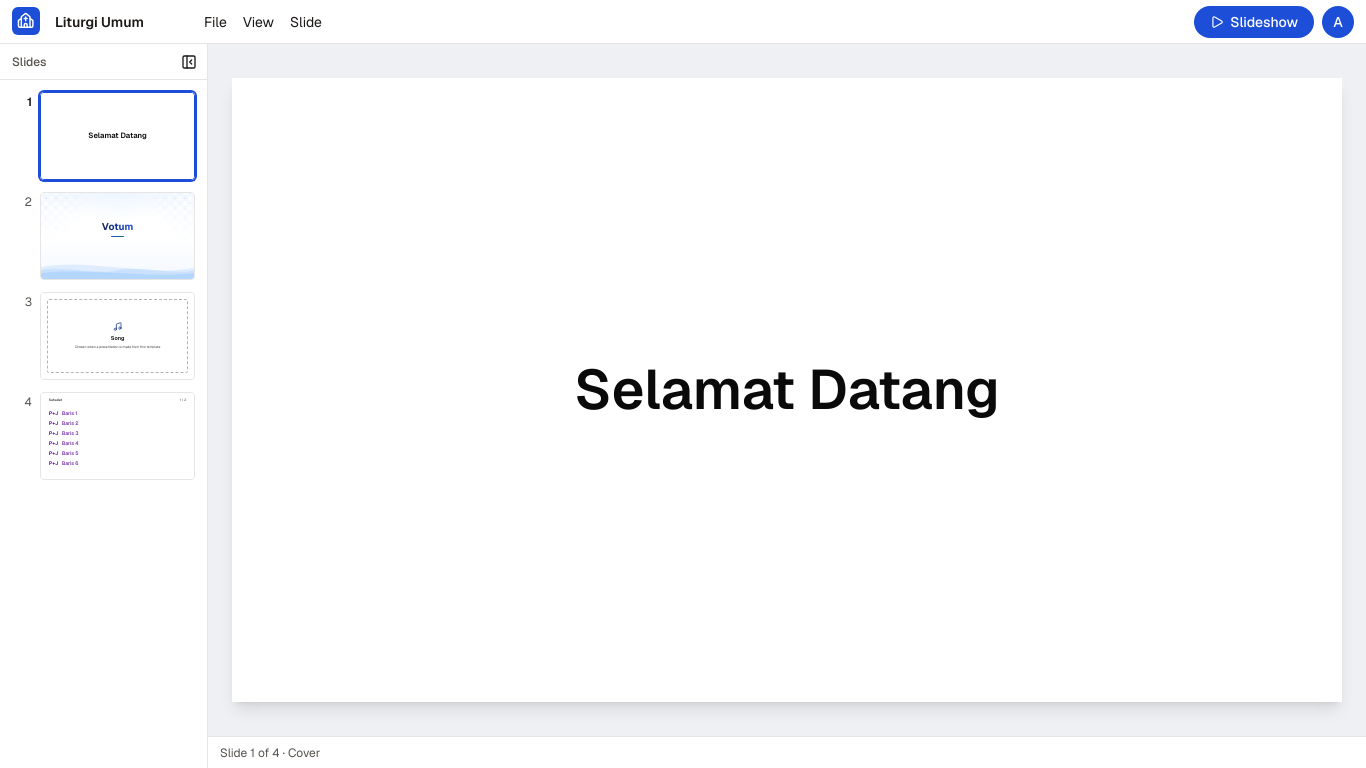
Test case: a name that is already used is refused and the old name comes back
Replace the text in the field named "Template name" with "Liturgi Paskah" at (118, 22), box [48,8,188,34]
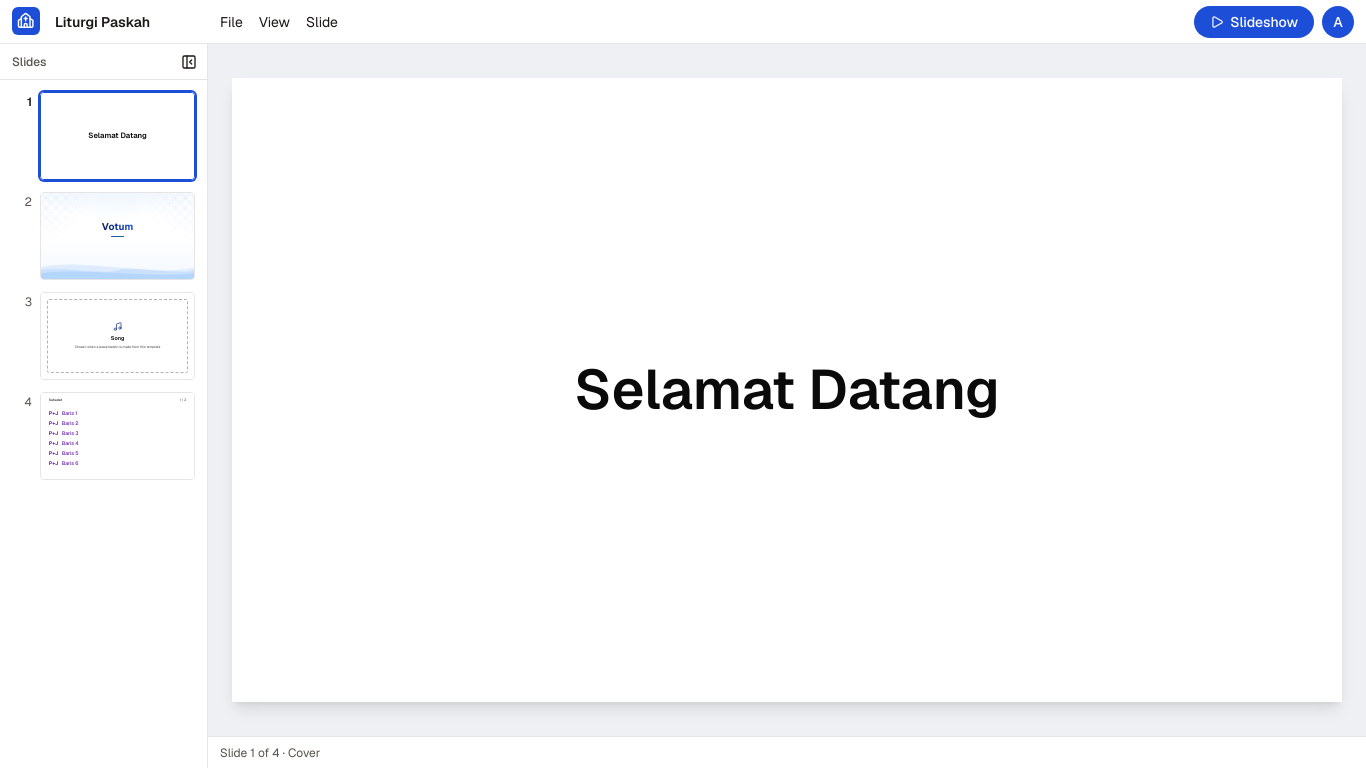
Leave the field named "Template name", box [48,8,204,34]
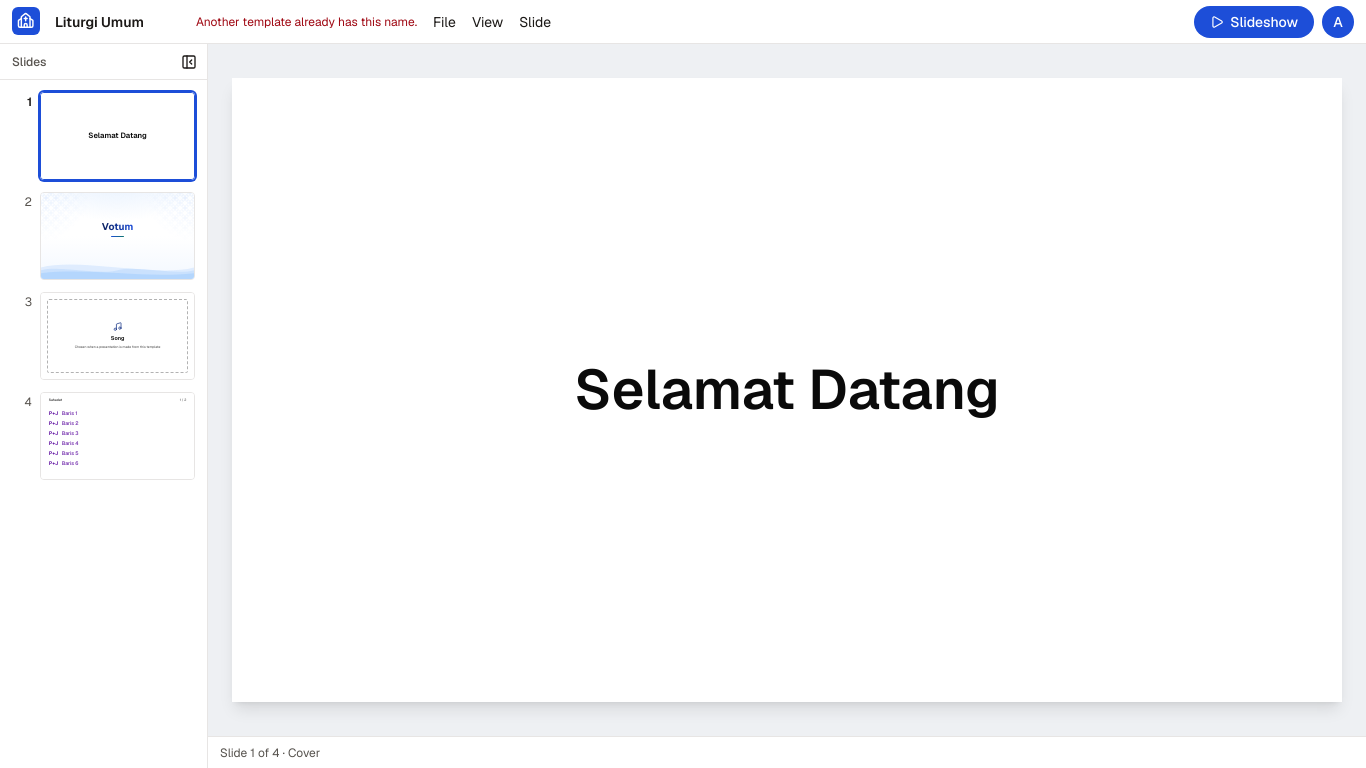
Expected: the message reads "Another template already has this name.", [196,14,417,30]
Expected: the field named "Template name" holds "Liturgi Umum", [48,8,188,34]
